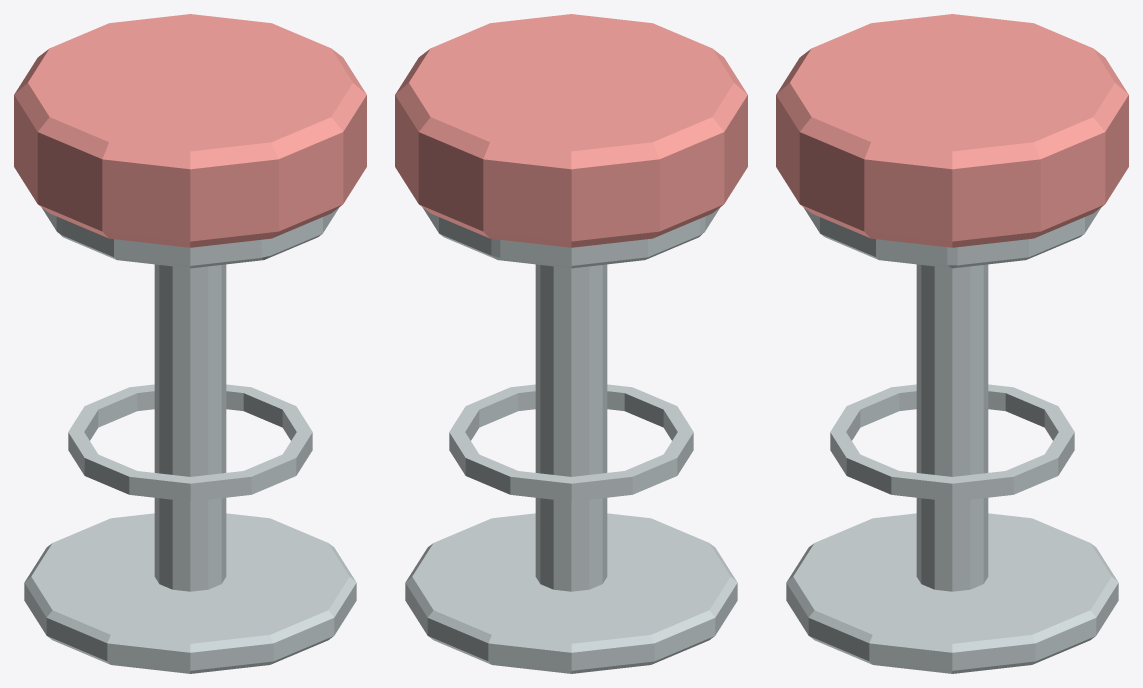
Rendered from diner_stool.glb.
3 renders of one model, left to right at view 1: azimuth 30°, elevation 25°; view 2: azimuth 150°, elevation 25°; view 3: azimuth 270°, elevation 25°, orthographic.
Visible parts, largest first — view 1: Round red cushion, Low pedestal, Chrome post, Foot ring, Cushion support; view 2: Round red cushion, Low pedestal, Chrome post, Foot ring, Cushion support; view 3: Round red cushion, Low pedestal, Chrome post, Foot ring, Cushion support.
Part boxes in pixels (x1,y1,x2,y2): Round red cushion: [14, 14, 366, 247]; Low pedestal: [24, 513, 356, 673]; Chrome post: [154, 264, 226, 591]; Foot ring: [68, 384, 312, 501]; Cushion support: [41, 207, 339, 268]; Round red cushion: [395, 14, 747, 247]; Low pedestal: [405, 513, 737, 673]; Chrome post: [535, 264, 607, 591]; Foot ring: [449, 384, 693, 501]; Cushion support: [422, 207, 720, 268]; Round red cushion: [776, 14, 1128, 247]; Low pedestal: [786, 513, 1118, 673]; Chrome post: [916, 264, 988, 591]; Foot ring: [830, 384, 1074, 501]; Cushion support: [803, 207, 1101, 268].
Size of the model in its own units: 0.2654 by 0.435 by 0.2654.
